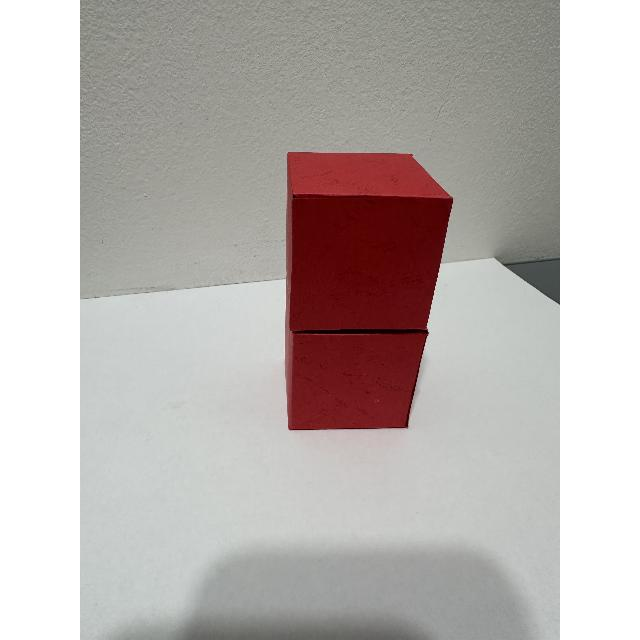red_cube: (279, 142, 447, 438)
